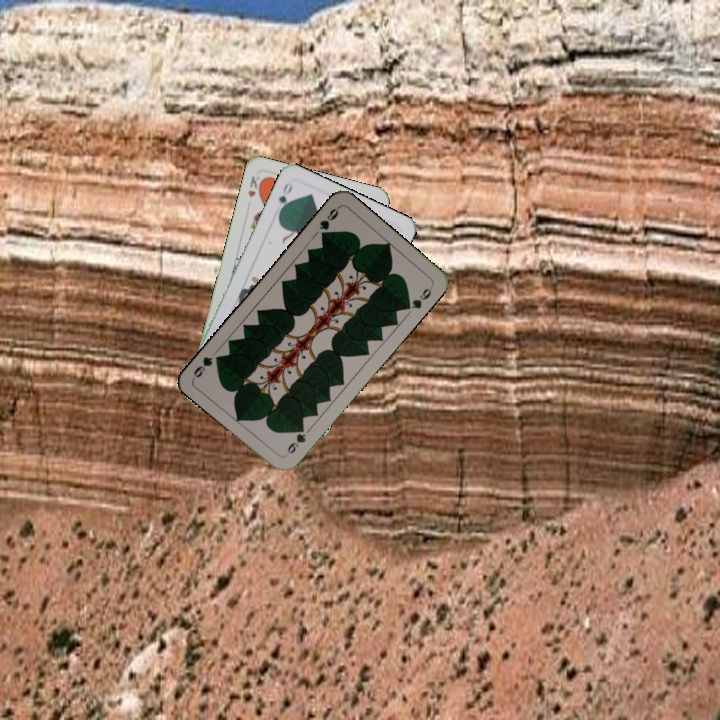G9: (315, 203, 342, 241), (283, 423, 309, 457)
GO: (274, 178, 295, 217)
HK: (244, 172, 263, 200)
